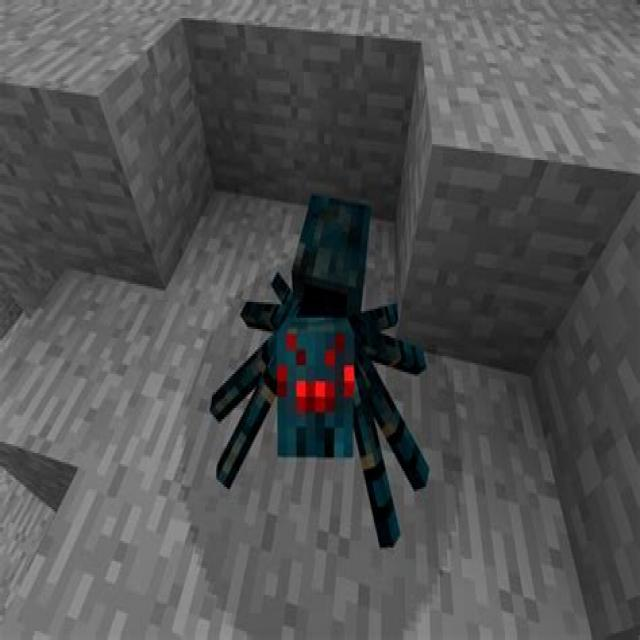Cave Spider: (204, 187, 432, 566)
